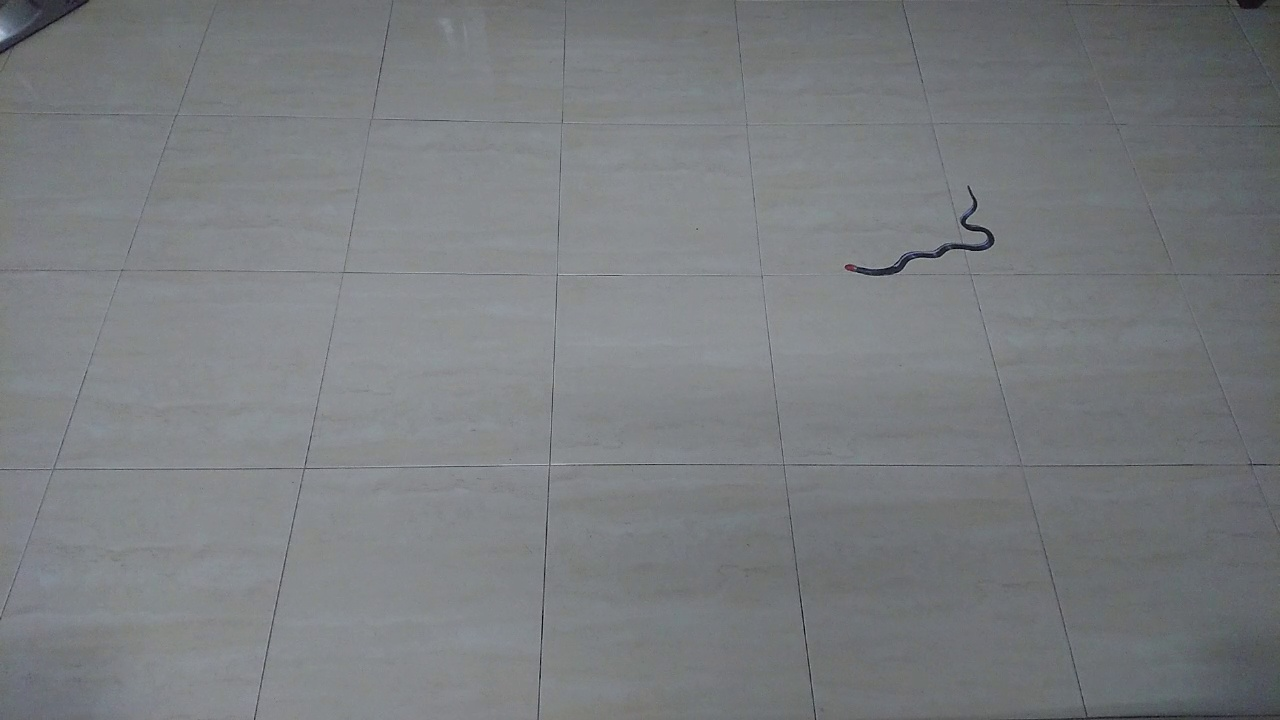snake: (830, 179, 1003, 287)
